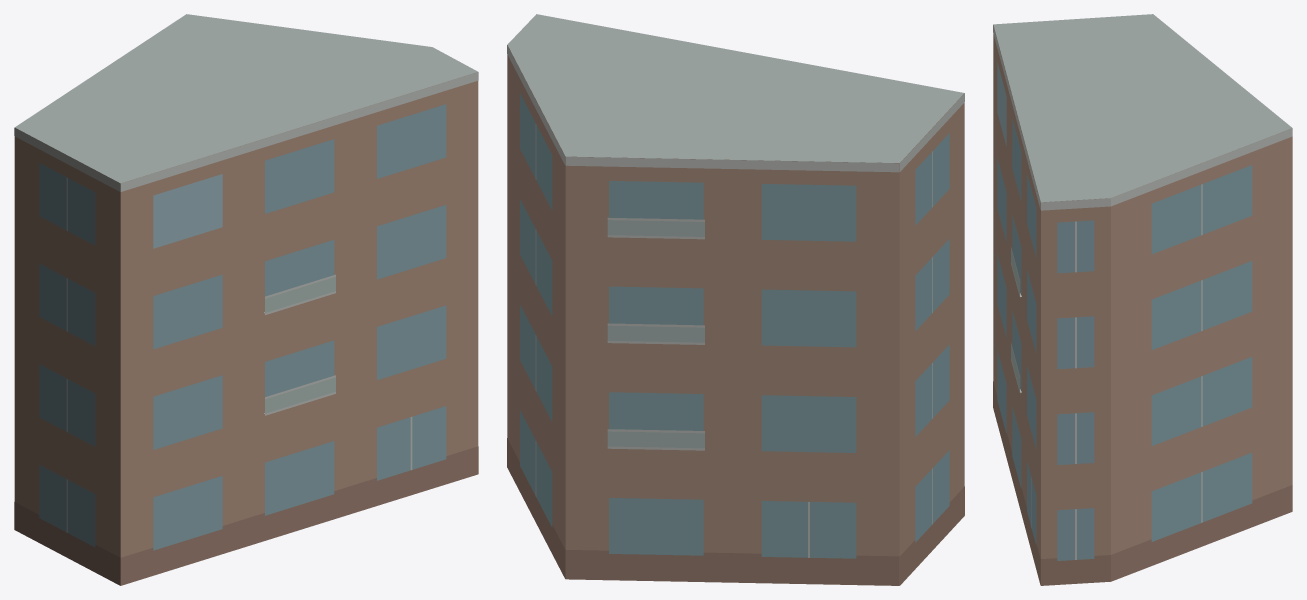
Rendered from survey-upis-32733891.glb.
3 views of the same model, side by side, from view 1: azimuth 30°, elevation 25°; view 2: azimuth 150°, elevation 25°; view 3: azimuth 270°, elevation 25° (orthographic). The views are drawn at different scales.
Parts seen in each view (by area): view 1: survey-upis-32733891.tmp; view 2: survey-upis-32733891.tmp; view 3: survey-upis-32733891.tmp.
Boxes of the visible parts, x1=… form: survey-upis-32733891.tmp: x1=14, y1=14, x2=478, y2=585; survey-upis-32733891.tmp: x1=507, y1=14, x2=964, y2=585; survey-upis-32733891.tmp: x1=993, y1=14, x2=1292, y2=585.
Size of the model in its own units: 11.8 by 11.2 by 7.93.
